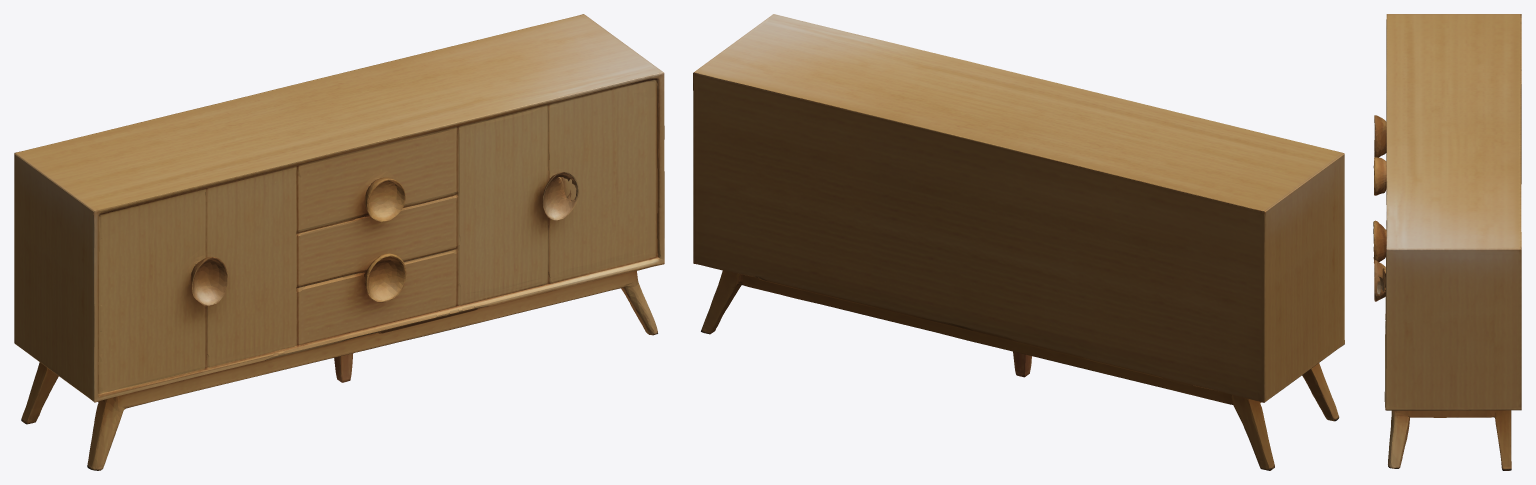
The model's file is BUFETERA PLATOS NUEZ.glb.
3 views of the same model, side by side, from view 1: azimuth 30°, elevation 25°; view 2: azimuth 150°, elevation 25°; view 3: azimuth 270°, elevation 25° (orthographic). The views are drawn at different scales.
Parts seen in each view (by area): view 1: world; view 2: world; view 3: world.
Part boxes in pixels (x1=…): world: x1=14, y1=14, x2=664, y2=470; world: x1=693, y1=14, x2=1344, y2=470; world: x1=1373, y1=14, x2=1521, y2=470.
Bounding box in the file's own units: 1.8 × 0.8 × 0.48.
Materials: 1 (1 with a texture image).
